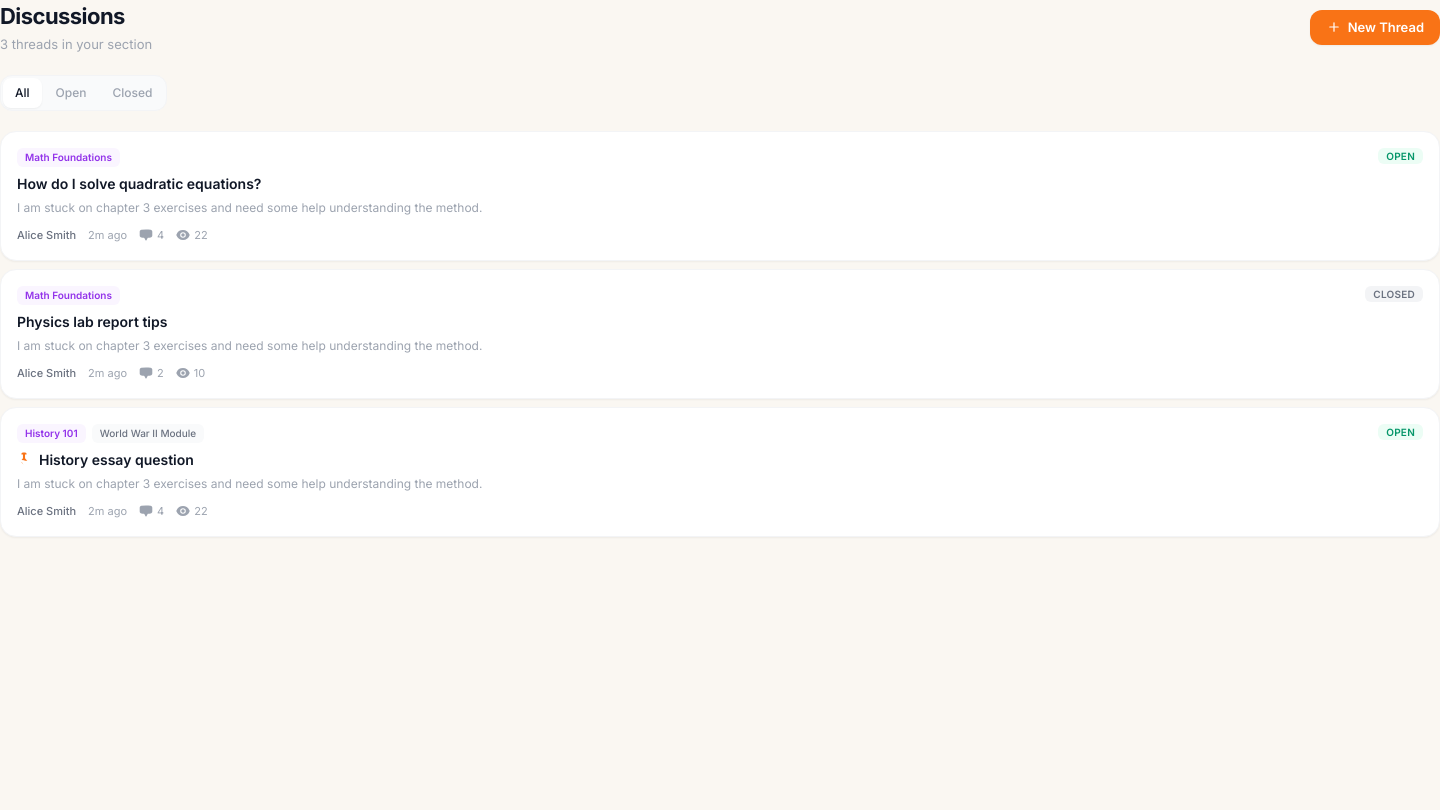
Test: StudentDiscussionPage › opens the New Discussion Thread modal when "New Thread" button is clicked
This screenshot has width=1440, height=810.
Expected: the heading "How do I solve quadratic equations?" is shown, left=17, top=172, right=262, bottom=194
Click the button "New Thread". click: (1375, 27)
box: left=1310, top=10, right=1439, bottom=45
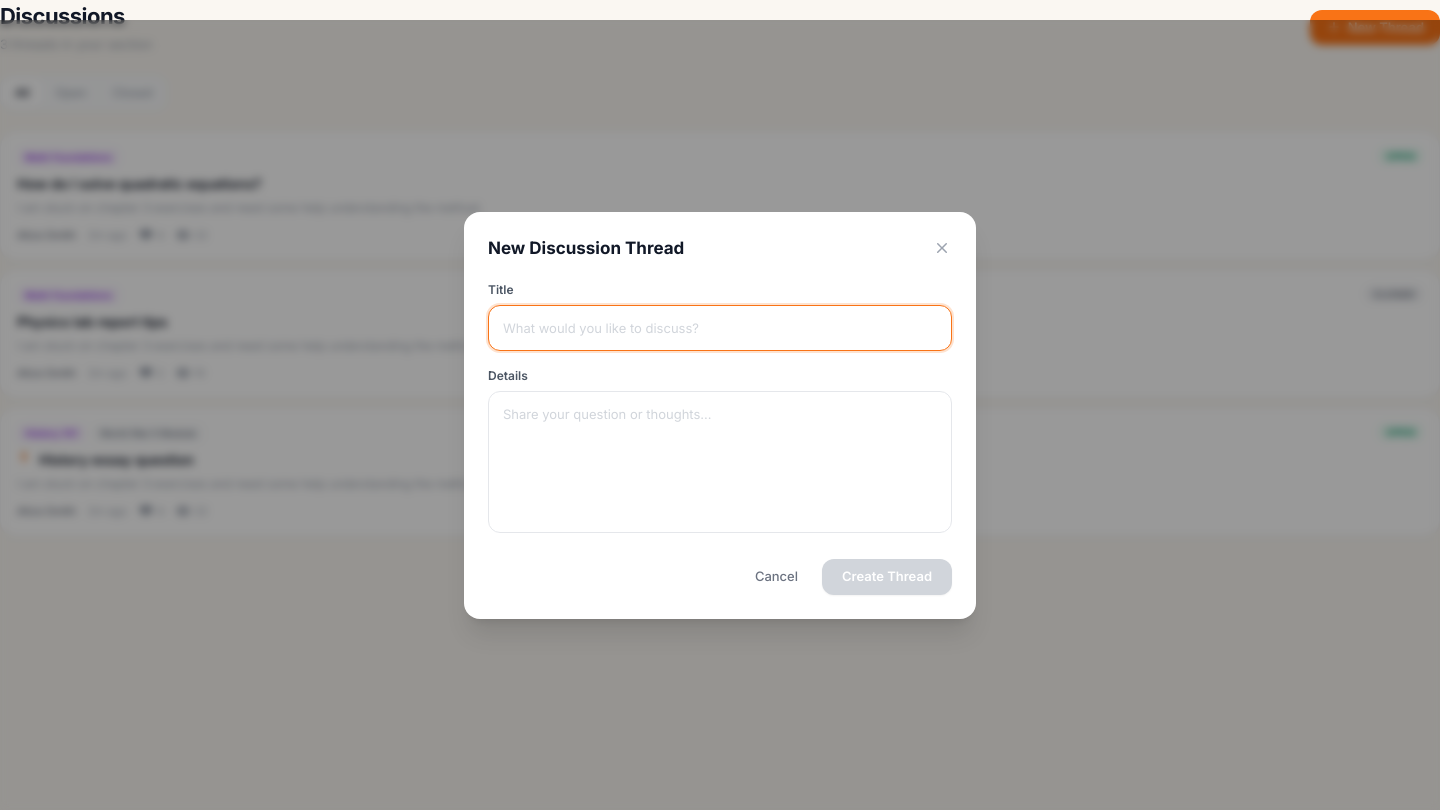
Expected: the heading "New Discussion Thread" is shown, left=488, top=236, right=684, bottom=261
Expected: the field labelled "Title" is shown, left=488, top=305, right=952, bottom=351
Expected: the text box labelled "Details" is shown, left=488, top=391, right=952, bottom=533
